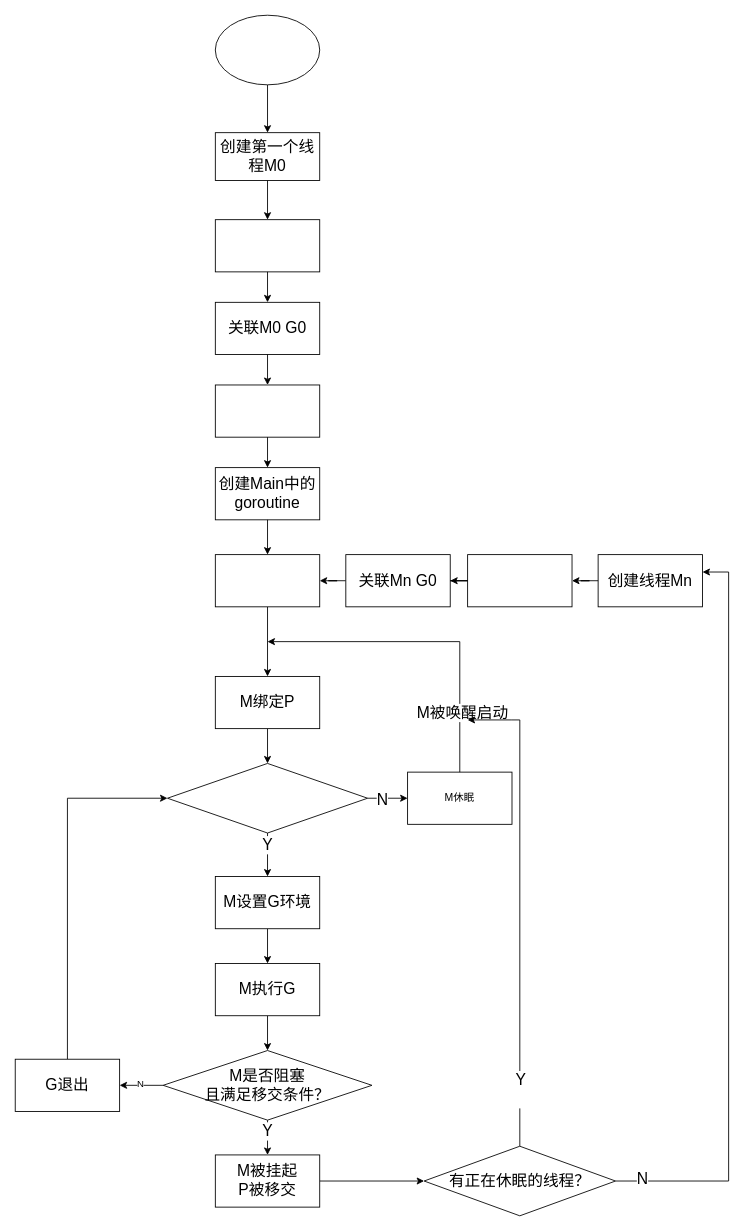
Some shapes in this 751 by 1231 pixel diagram are drawn without their labels. Here are the shapes that lost their labels. From the top down, the box of each, then its label:
(214, 14, 320, 85): 开始
(214, 219, 320, 272): 创建第一个Go协程G0
(214, 384, 320, 437): 调度初始化
(214, 554, 320, 607): 启动M
(467, 554, 572, 607): 创建协程G0
(167, 763, 368, 833): M通过P可获得G？ 偷取机制也算获得
